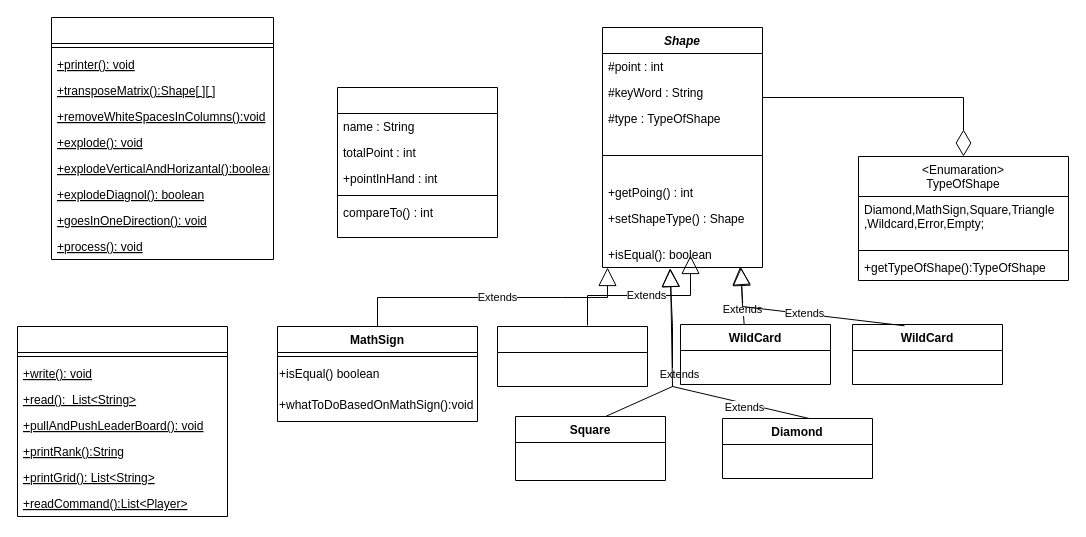
This 1086x537 diagram has some shape labels left out. Here are the shapes that lost their labels. From the top down, the box of each, then its label:
(50, 16, 274, 260): Grid
(336, 86, 498, 238): Player
(496, 326, 648, 386): Triangle
(16, 326, 228, 516): ReadAndWrite
